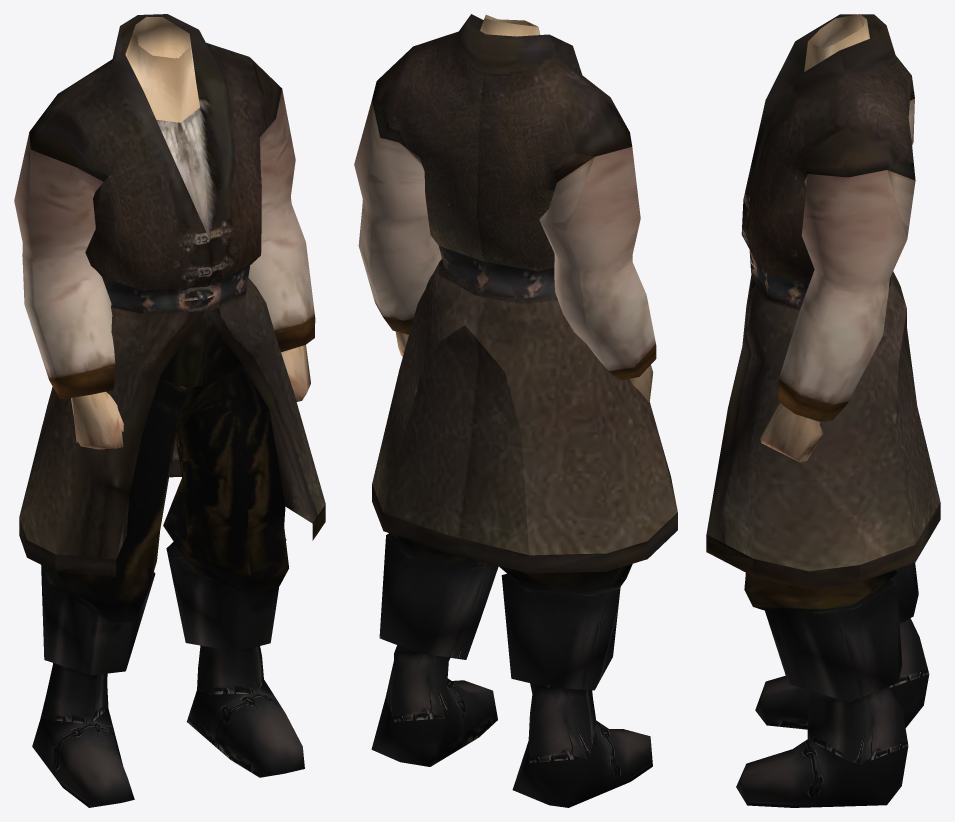
The model's file is WG_ARMOR_ELEGANT_CITIZEN_03.glb.
3 views of the same model, side by side, from view 1: azimuth 30°, elevation 25°; view 2: azimuth 150°, elevation 25°; view 3: azimuth 270°, elevation 25° (orthographic). The views are drawn at different scales.
Visible parts, largest first — view 1: WG_ARMOR_ELEGANT_CITIZEN_03; view 2: WG_ARMOR_ELEGANT_CITIZEN_03; view 3: WG_ARMOR_ELEGANT_CITIZEN_03.
Boxes of the visible parts, x1,y1,x2,y2 form: WG_ARMOR_ELEGANT_CITIZEN_03: [14, 14, 325, 807]; WG_ARMOR_ELEGANT_CITIZEN_03: [354, 14, 677, 807]; WG_ARMOR_ELEGANT_CITIZEN_03: [706, 14, 940, 807].
Bounding box in the file's own units: 0.651 × 1.69 × 0.4847.
Materials: 3 (3 with a texture image).
